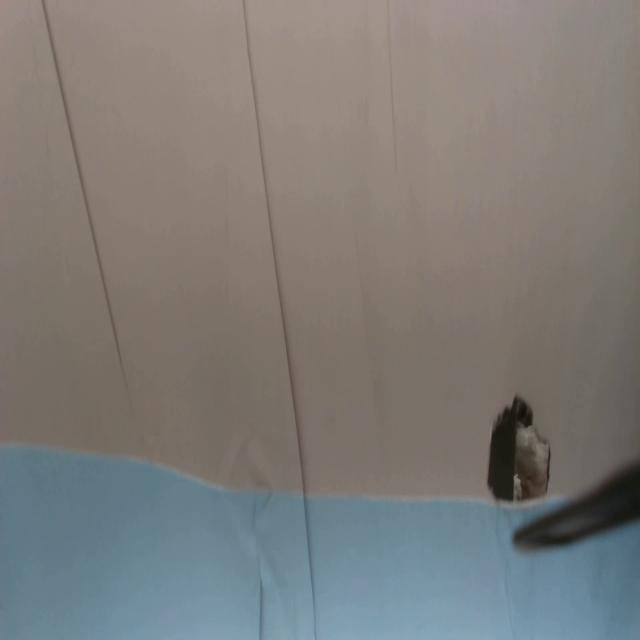crease: (237, 0, 321, 639), (35, 0, 131, 395), (384, 1, 402, 173), (255, 562, 273, 640)
hole: (486, 393, 552, 505)
